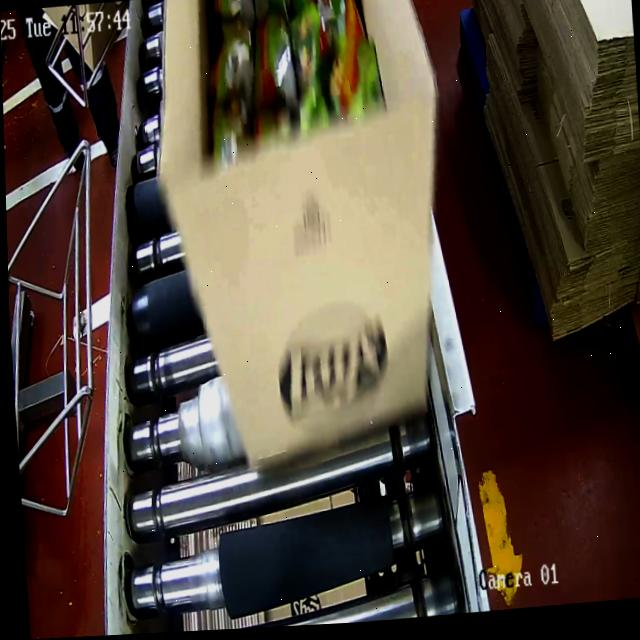YOGURT_HERB: (198, 0, 382, 149)
